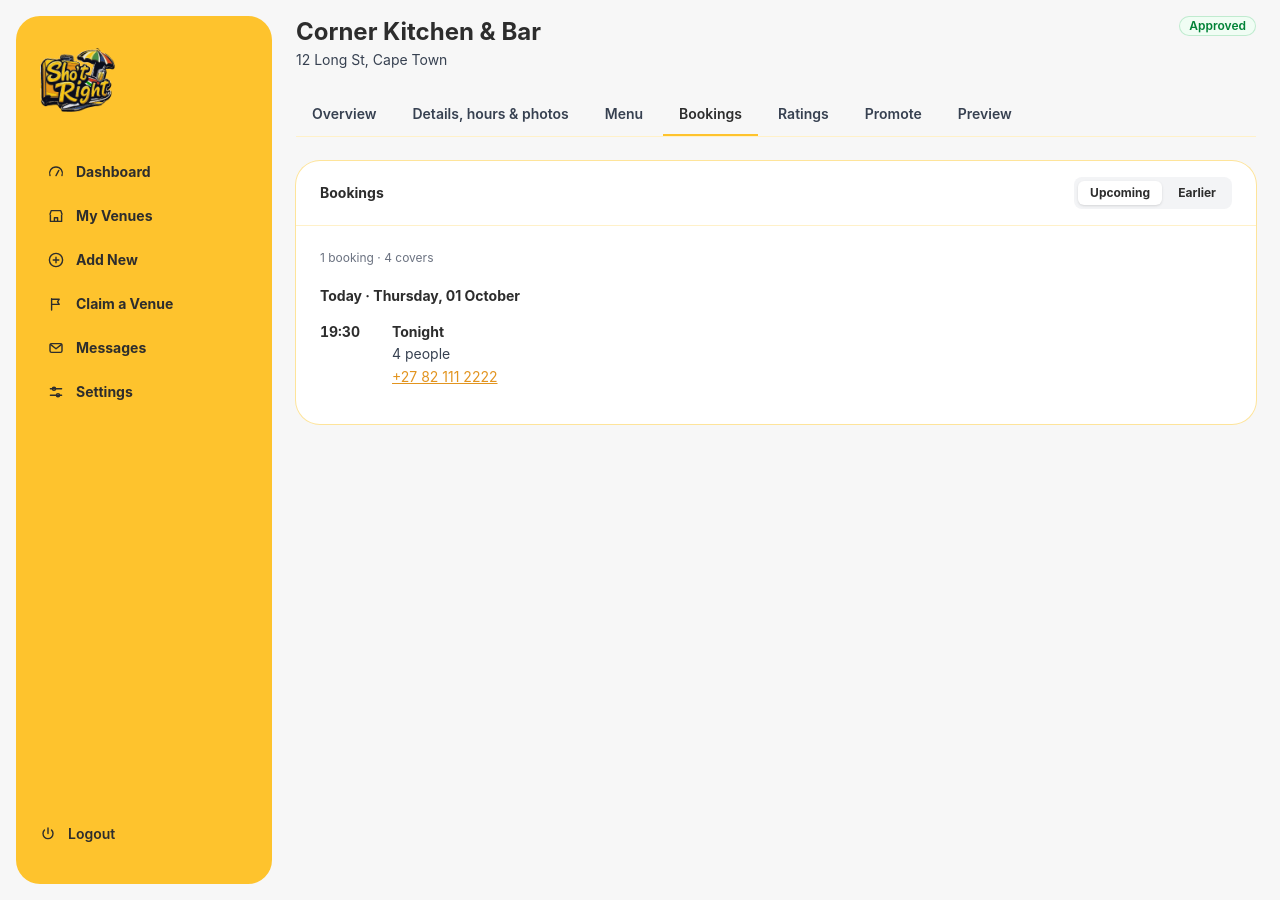
it: bookings › can look back at earlier bookings without losing today
This screenshot has width=1280, height=900.
Check: the text "Tonight" is shown, box x1=392 y1=323 x2=444 y2=340
Check: the text "Last Week" is not shown
Click the button "Earlier": (1197,193) x1=1166 y1=181 x2=1228 y2=205
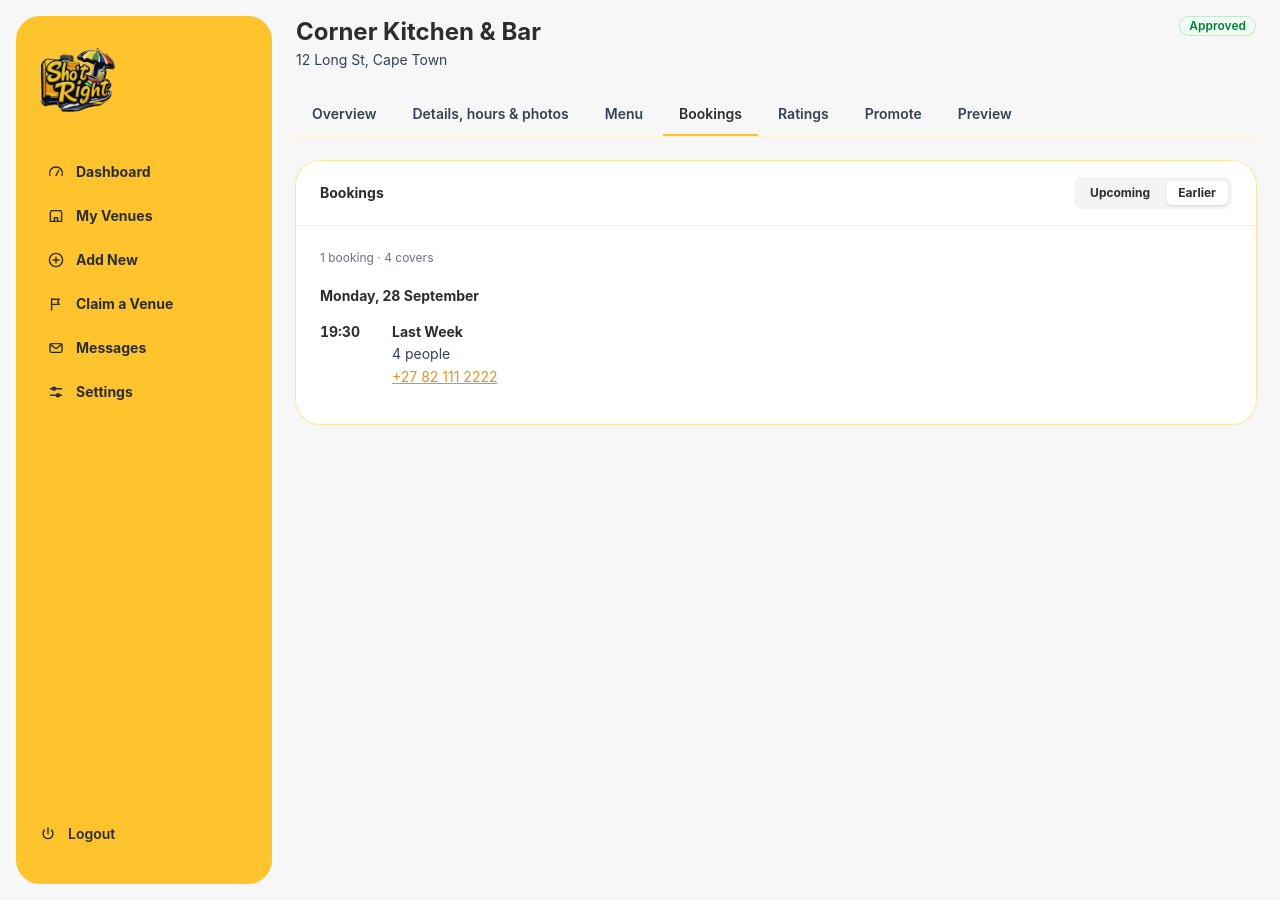
Check: the text "Last Week" is shown, box x1=392 y1=323 x2=463 y2=340
Check: the text "Tonight" is gone
